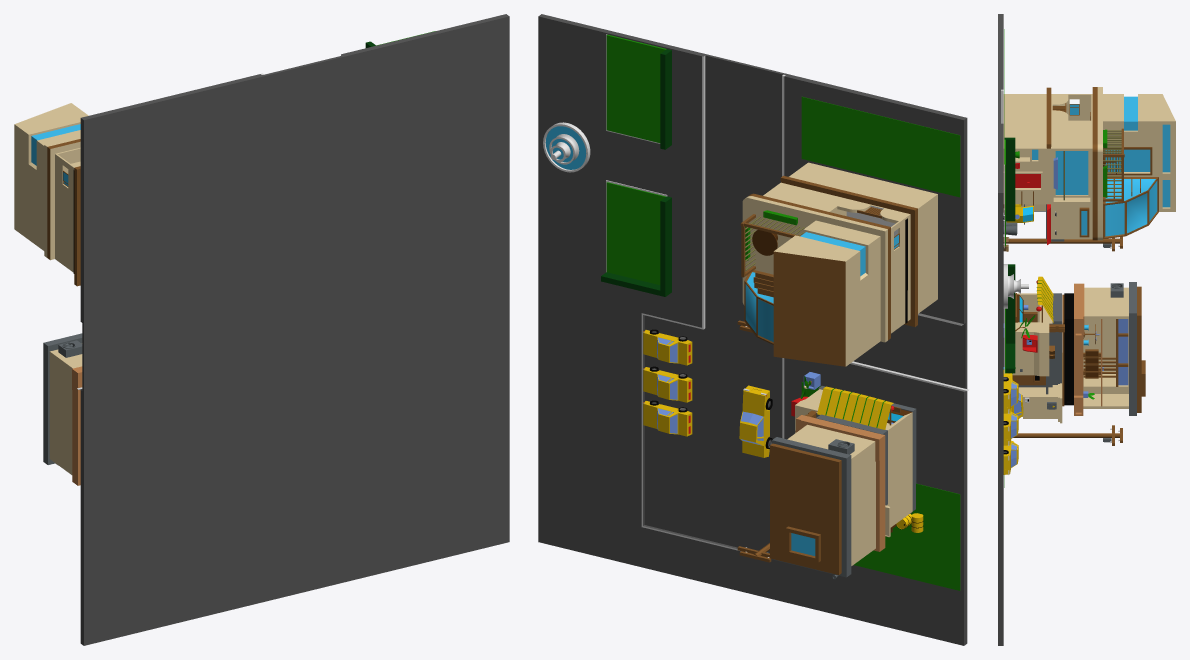
Rendered from Map.fbx.
3 renders of one model, left to right at view 1: azimuth 30°, elevation 25°; view 2: azimuth 150°, elevation 25°; view 3: azimuth 270°, elevation 25°, orthographic. The views are drawn at different scales.
Parts seen in each view (by area): view 1: Cube.258, Cube.285, Cube.248, Cube.251, Cube.247; view 2: Cube.258, Cube.285, Cube.324, Cube.252, Cube.323, Cube.329, Cube.332, Cube.248, Cube.241, Plane.064, Cube.251, Cube.247 (+11 smaller); view 3: Cube.285, Cube.248, Cube.258, Cube.240, Cube.247, Cube.242, Cube.241, Cube.246, Cube.251, Cube.268, Cube.330, Cube.252 (+17 smaller).
Part boxes in pixels (box(x1,y1,x2,y2)): Cube.258: box(77, 14, 509, 645); Cube.285: box(14, 103, 88, 286); Cube.248: box(49, 349, 82, 474); Cube.251: box(43, 333, 82, 464); Cube.247: box(72, 366, 82, 485); Cube.258: box(538, 14, 969, 645); Cube.285: box(742, 162, 937, 366); Cube.324: box(801, 96, 960, 197); Cube.252: box(770, 443, 841, 574); Cube.323: box(854, 483, 960, 590); Cube.329: box(606, 34, 666, 142); Cube.332: box(606, 182, 665, 284); Cube.248: box(787, 424, 875, 565); Cube.241: box(816, 409, 912, 503); Plane.064: box(817, 386, 893, 429); Cube.251: box(772, 437, 851, 577); Cube.247: box(796, 415, 885, 551); Cube.285: box(1003, 87, 1175, 244); Cube.248: box(1083, 287, 1128, 408); Cube.258: box(998, 14, 1003, 645); Cube.240: box(1012, 323, 1049, 376); Cube.247: box(1074, 283, 1084, 415); Cube.242: box(1018, 353, 1062, 423); Cube.241: box(1012, 293, 1052, 394); Cube.246: box(1064, 293, 1073, 405); Cube.251: box(1129, 282, 1136, 415); Cube.268: box(1116, 319, 1128, 386); Cube.330: box(1004, 137, 1015, 221); Cube.252: box(1137, 286, 1145, 412).
Size of the model in its own units: 16917 by 19786 by 7038.
